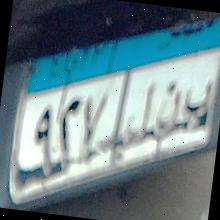2: (53, 96, 82, 170)
7: (78, 92, 108, 146)
9: (27, 106, 58, 180)
baa: (182, 80, 212, 120)
laam: (122, 82, 154, 145)
noon: (153, 81, 182, 133)
